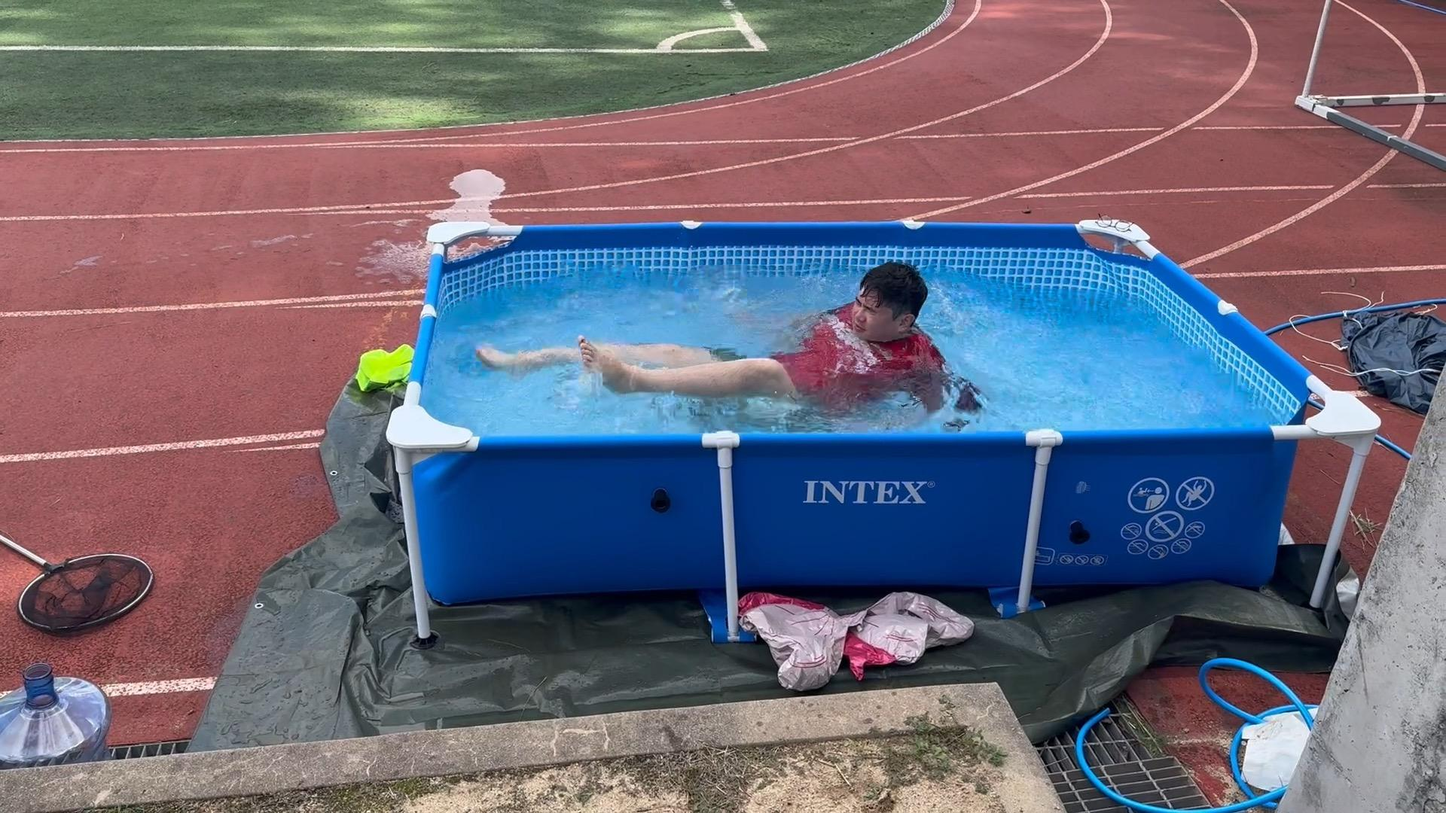Drowning: (449, 252, 996, 419)
